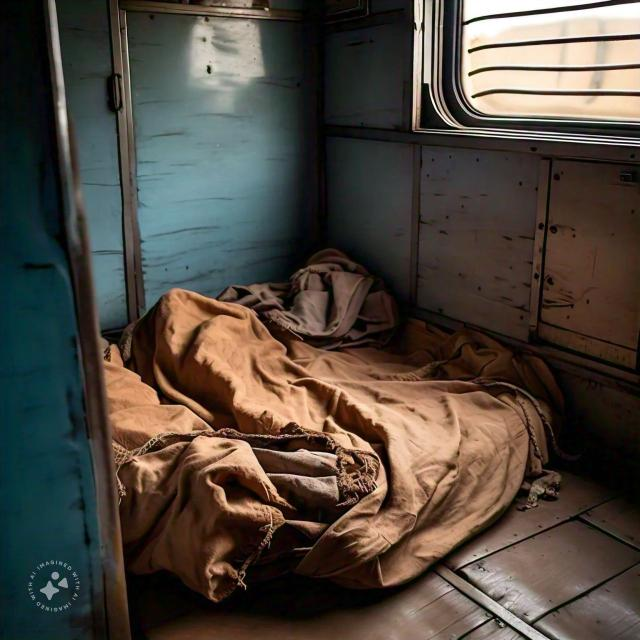DirtyTorn: (54, 216, 602, 571)
